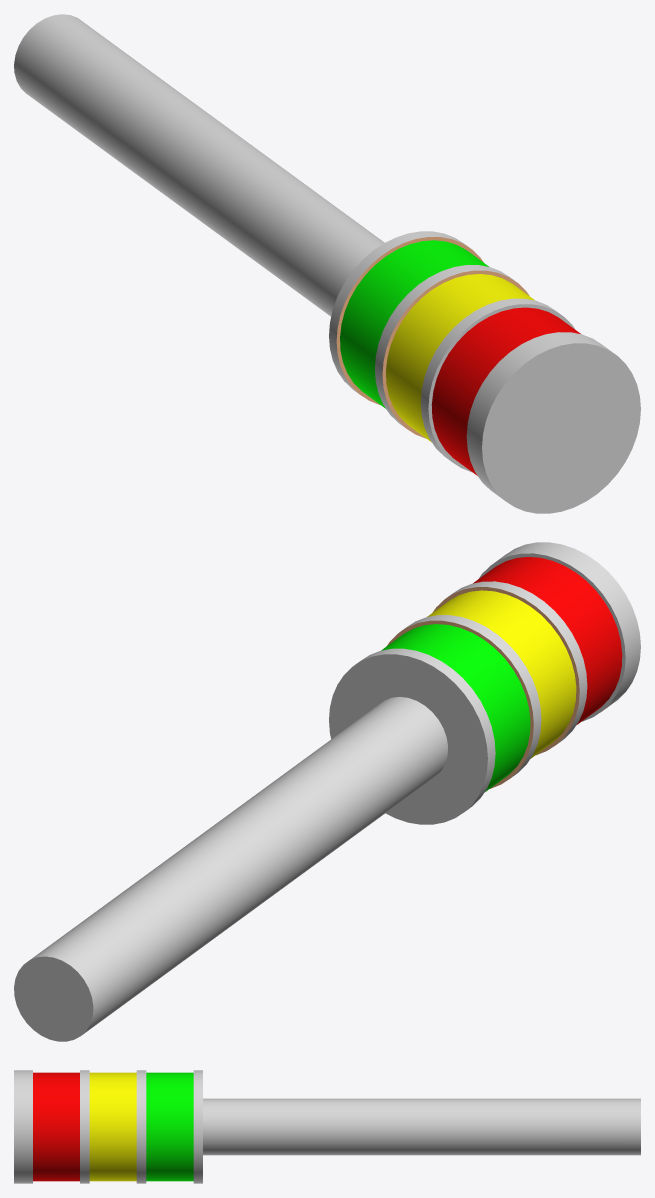
The model's file is IMM-Alarm.gltf.
3 views of the same model, one above another, from view 1: azimuth 30°, elevation 25°; view 2: azimuth 150°, elevation 25°; view 3: azimuth 270°, elevation 25° (orthographic). The views are drawn at different scales.
Visible parts, largest first — view 1: mesh15_meshnode_15, mesh0_meshnode_0, mesh3_meshnode_3, mesh11_meshnode_11, mesh7_meshnode_7, mesh1_meshnode_1, mesh5_meshnode_5, mesh13_meshnode_13, mesh9_meshnode_9, mesh8_meshnode_8, mesh12_meshnode_12, mesh4_meshnode_4; view 2: mesh15_meshnode_15, mesh14_meshnode_14, mesh7_meshnode_7, mesh3_meshnode_3, mesh11_meshnode_11, mesh16_meshnode_16, mesh1_meshnode_1, mesh13_meshnode_13, mesh9_meshnode_9, mesh5_meshnode_5, mesh10_meshnode_10, mesh6_meshnode_6 (+1 smaller); view 3: mesh15_meshnode_15, mesh11_meshnode_11, mesh7_meshnode_7, mesh3_meshnode_3, mesh1_meshnode_1, mesh9_meshnode_9, mesh5_meshnode_5, mesh13_meshnode_13.
Part boxes in pixels (bbox=[...]): mesh15_meshnode_15: bbox=[14, 14, 384, 316]; mesh0_meshnode_0: bbox=[482, 343, 640, 513]; mesh3_meshnode_3: bbox=[431, 307, 580, 475]; mesh11_meshnode_11: bbox=[340, 240, 488, 408]; mesh7_meshnode_7: bbox=[386, 274, 534, 442]; mesh1_meshnode_1: bbox=[466, 332, 615, 500]; mesh5_meshnode_5: bbox=[420, 298, 560, 460]; mesh13_meshnode_13: bbox=[329, 231, 469, 393]; mesh9_meshnode_9: bbox=[375, 265, 515, 427]; mesh8_meshnode_8: bbox=[382, 270, 529, 438]; mesh12_meshnode_12: bbox=[336, 237, 483, 404]; mesh4_meshnode_4: bbox=[428, 304, 575, 472]; mesh15_meshnode_15: bbox=[30, 697, 447, 1034]; mesh14_meshnode_14: bbox=[329, 654, 487, 824]; mesh7_meshnode_7: bbox=[427, 590, 576, 758]; mesh3_meshnode_3: bbox=[473, 557, 622, 724]; mesh11_meshnode_11: bbox=[381, 624, 530, 791]; mesh16_meshnode_16: bbox=[14, 956, 93, 1041]; mesh1_meshnode_1: bbox=[493, 542, 640, 709]; mesh13_meshnode_13: bbox=[355, 648, 495, 810]; mesh9_meshnode_9: bbox=[401, 615, 541, 776]; mesh5_meshnode_5: bbox=[447, 581, 587, 743]; mesh10_meshnode_10: bbox=[386, 620, 533, 788]; mesh6_meshnode_6: bbox=[432, 587, 579, 755]; mesh15_meshnode_15: bbox=[203, 1098, 640, 1155]; mesh11_meshnode_11: bbox=[146, 1072, 193, 1181]; mesh7_meshnode_7: bbox=[89, 1072, 136, 1181]; mesh3_meshnode_3: bbox=[33, 1072, 79, 1181]; mesh1_meshnode_1: bbox=[14, 1070, 32, 1183]; mesh9_meshnode_9: bbox=[136, 1070, 146, 1183]; mesh5_meshnode_5: bbox=[80, 1070, 89, 1183]; mesh13_meshnode_13: bbox=[193, 1070, 202, 1183].
Size of the model in its own units: 0.1524 by 0.1524 by 0.8428.
